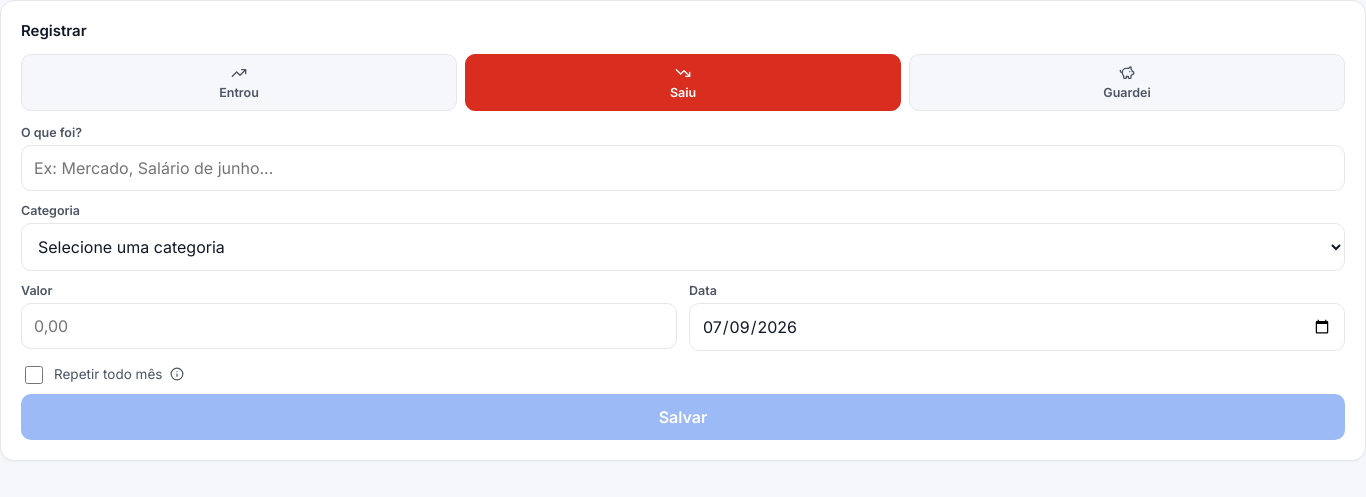
Test: FormLancamento › sugere categoria automaticamente a partir da descrição
The image size is (1366, 497).
Step 1. Type "Mercado do bairro" into the field labelled "O que foi?" → (683, 168), box [21,145,1345,191]
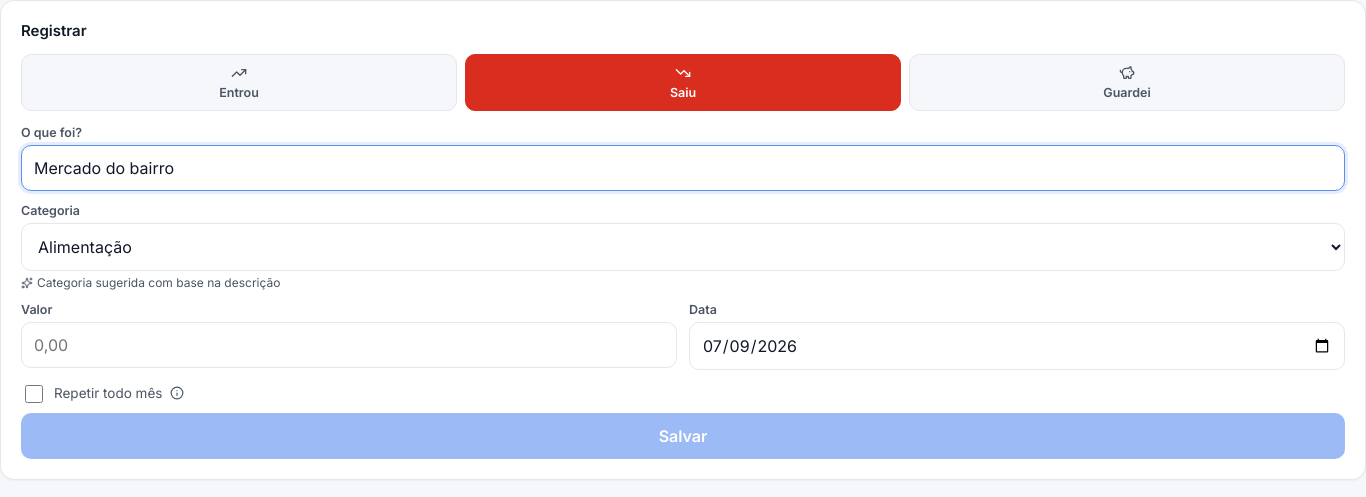
Result: the dropdown labelled "Categoria" shows "Alimentação" at [21,223,1345,271]
Result: the text "Categoria sugerida com base na descrição" is shown at [21,275,280,290]
